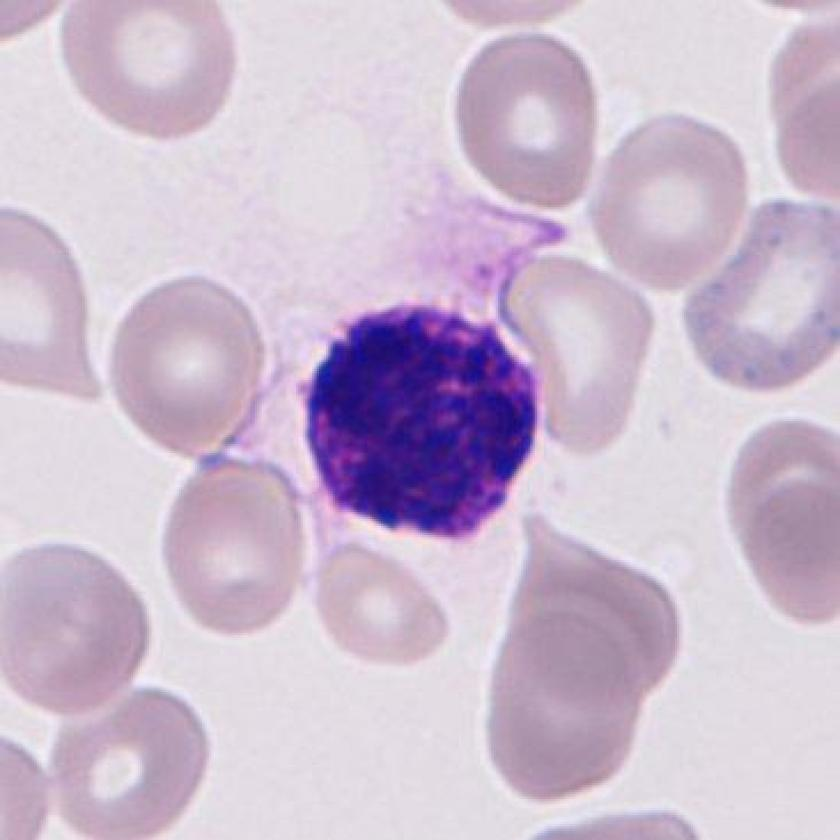basophil: (297, 295, 550, 561)
